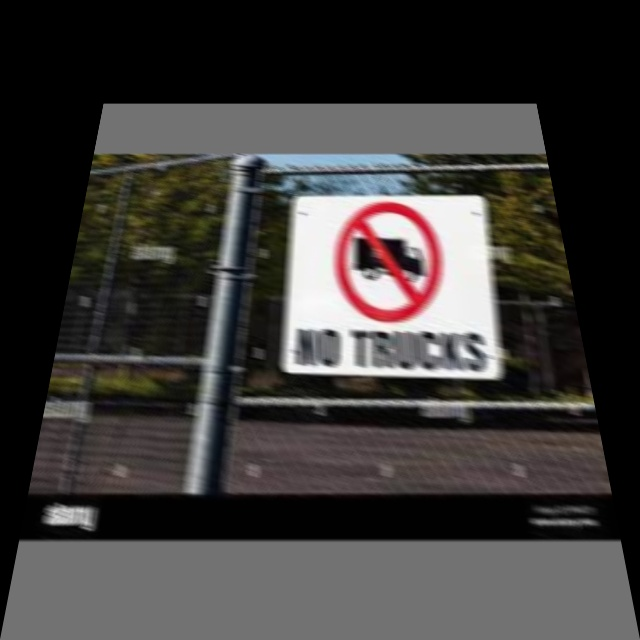Truck_Prohibited: (330, 198, 452, 325)
